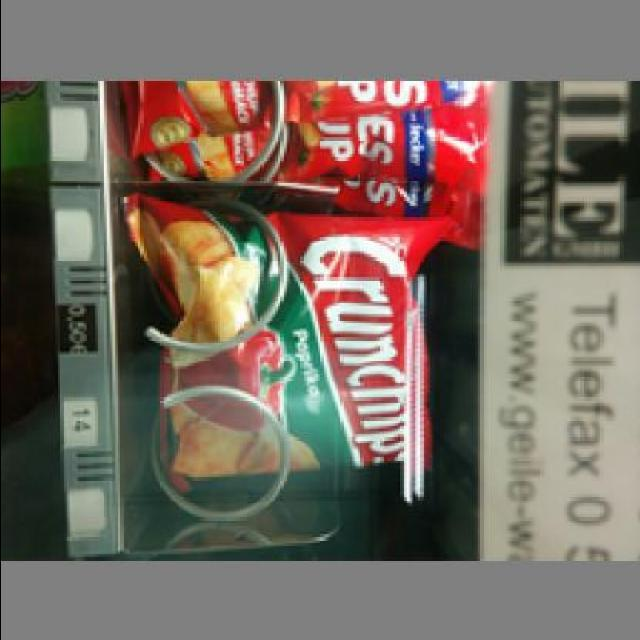Chips: (144, 210, 448, 493)
